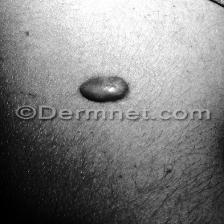Benign Marking or Mole: (75, 75, 133, 102)
